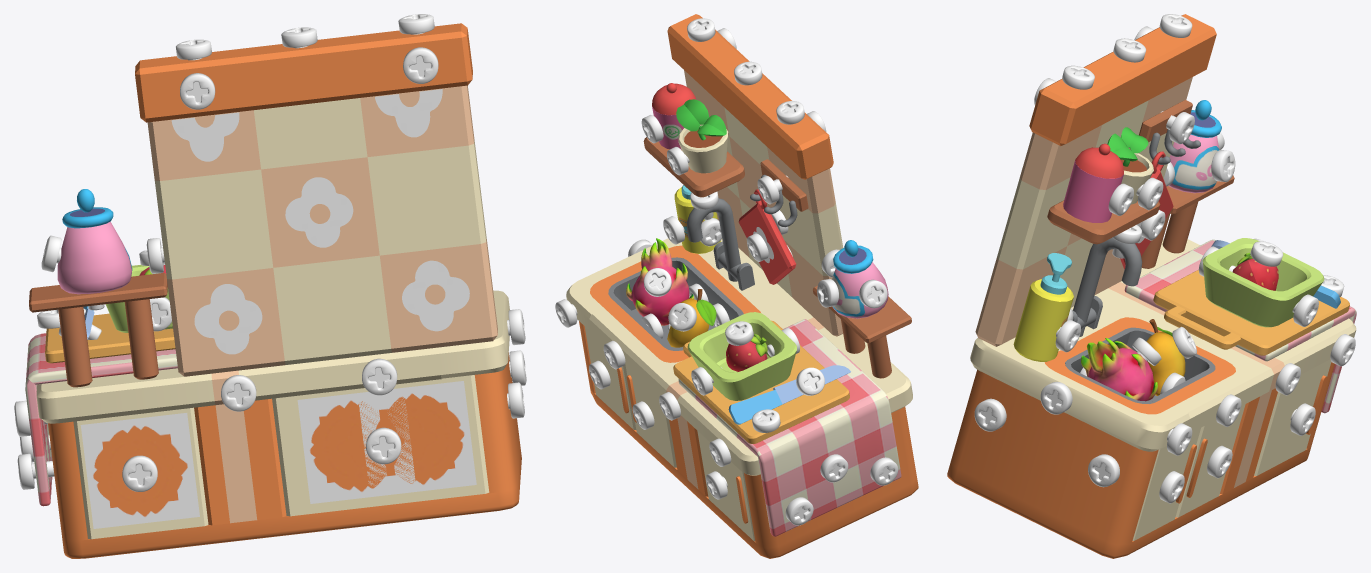
Rendered from Kitchenware.fbx.
3 views of the same model, side by side, from view 1: azimuth 30°, elevation 25°; view 2: azimuth 150°, elevation 25°; view 3: azimuth 270°, elevation 25° (orthographic). The views are drawn at different scales.
Visible parts, largest first — view 1: Board_Kitchenware_0, Board_Kitchenware_23, Board_Kitchenware_1, Board_Kitchenware_28, Board_Kitchenware_39, Board_Kitchenware_26, Board_Kitchenware_21, Board_Kitchenware_3, Board_Kitchenware_4, Board_Kitchenware_22, Board_Kitchenware_31, Board_Kitchenware_25 (+11 smaller); view 2: Board_Kitchenware_29, Board_Kitchenware_0, Screw (×17), Board_Kitchenware_1, Board_Kitchenware_39, Board_Kitchenware_5, Board_Kitchenware_11, Screw (1) (×8), Board_Kitchenware_2, Board_Kitchenware_25, Board_Kitchenware_21, Board_Kitchenware_32 (+22 smaller); view 3: Board_Kitchenware_22, Board_Kitchenware_0, Board_Kitchenware_1, Screw (×15), Board_Kitchenware_32, Board_Kitchenware_39, Board_Kitchenware_2, Board_Kitchenware_5, Board_Kitchenware_21, Screw (1) (×6), Board_Kitchenware_7, Board_Kitchenware_27 (+19 smaller).
Boxes of the visible parts, box(x1,y1,x2,y2) form: Board_Kitchenware_0: box(147, 85, 497, 376); Board_Kitchenware_23: box(272, 375, 489, 516); Board_Kitchenware_1: box(135, 23, 472, 122); Board_Kitchenware_28: box(73, 407, 208, 539); Board_Kitchenware_39: box(36, 361, 321, 423); Board_Kitchenware_26: box(194, 398, 286, 525); Board_Kitchenware_21: box(62, 445, 521, 558); Board_Kitchenware_3: box(29, 273, 167, 387); Board_Kitchenware_4: box(57, 189, 132, 294); Board_Kitchenware_22: box(474, 352, 520, 493); Board_Kitchenware_31: box(317, 347, 441, 392); Board_Kitchenware_25: box(48, 421, 87, 540); Board_Kitchenware_29: box(758, 396, 901, 536); Board_Kitchenware_0: box(684, 70, 843, 336); Screw (×17): box(555, 61, 898, 485); Board_Kitchenware_1: box(667, 14, 833, 179); Board_Kitchenware_39: box(636, 288, 912, 475); Board_Kitchenware_5: box(687, 312, 796, 400); Board_Kitchenware_11: box(678, 319, 886, 456); Screw (1) (×8): box(632, 101, 887, 525); Board_Kitchenware_2: box(673, 320, 849, 443); Board_Kitchenware_25: box(744, 406, 916, 548); Board_Kitchenware_21: box(589, 386, 918, 558); Board_Kitchenware_32: box(566, 238, 722, 332); Board_Kitchenware_22: box(950, 369, 1158, 544); Board_Kitchenware_0: box(975, 77, 1192, 346); Board_Kitchenware_1: box(1029, 14, 1216, 145); Screw (×15): box(974, 38, 1318, 503); Board_Kitchenware_32: box(970, 337, 1189, 451); Board_Kitchenware_39: box(1094, 239, 1356, 405); Board_Kitchenware_2: box(1153, 270, 1349, 355); Board_Kitchenware_5: box(1202, 238, 1324, 327); Board_Kitchenware_21: box(947, 446, 1311, 558); Screw (1) (×6): box(1040, 14, 1355, 487); Board_Kitchenware_7: box(1013, 253, 1073, 361); Board_Kitchenware_27: box(1254, 359, 1331, 475).
Bounding box in the file's own units: 8.89 × 9.97 × 7.68.
Materials: 10 (9 with a texture image).
